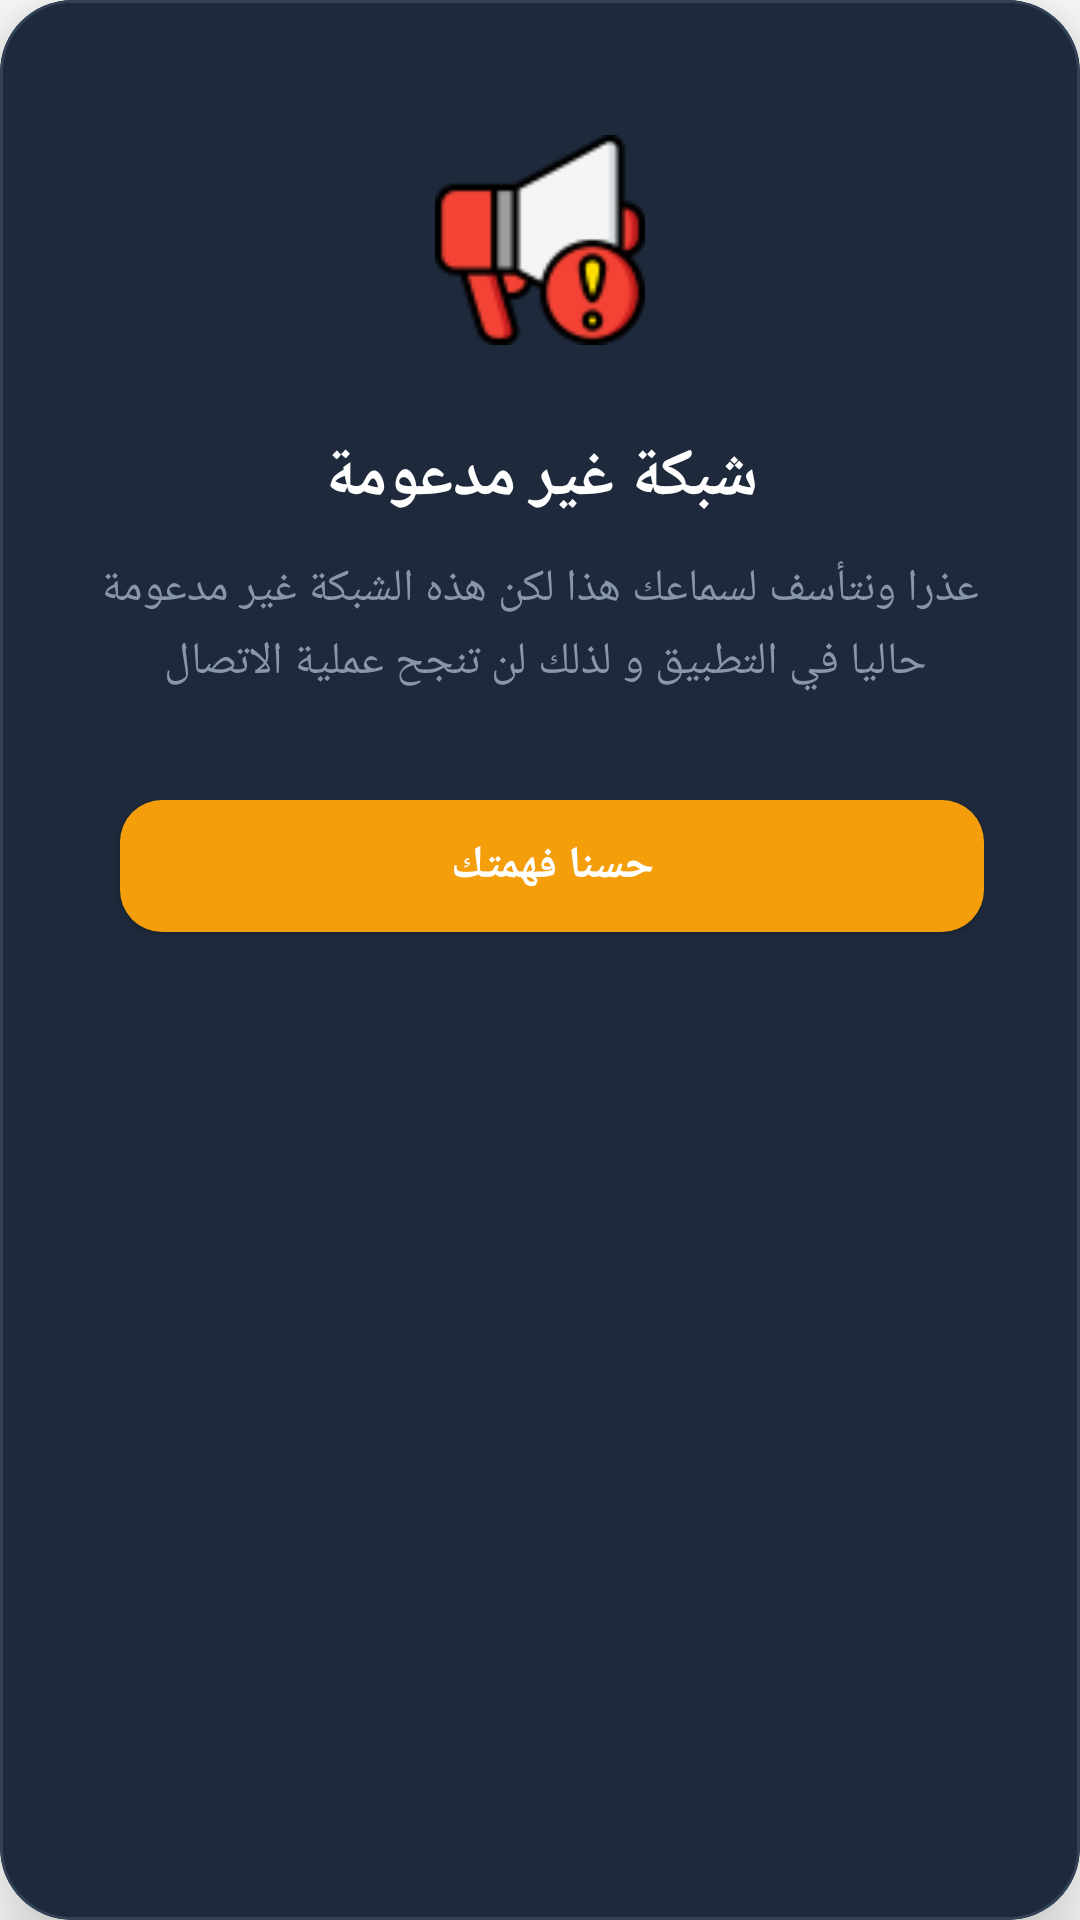

Point at icon controls on the screen. Image size 1080 × 1920, points as (x=x, y=y).
alert: (x=540, y=240)
